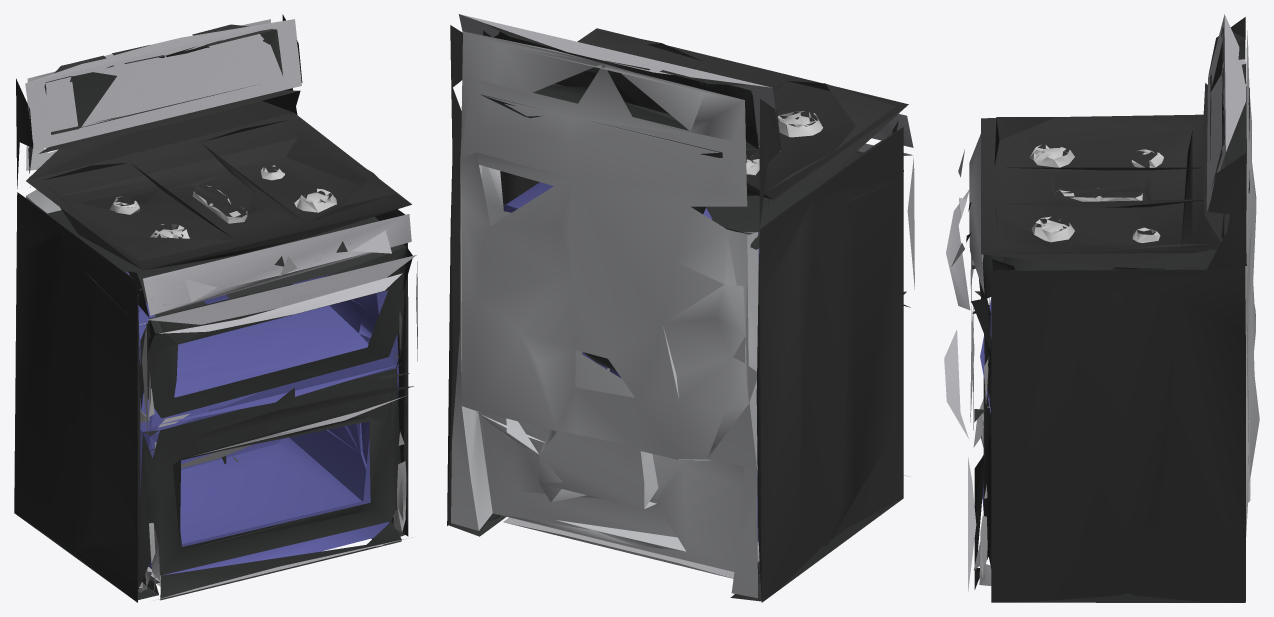
Rendered from simready-range-cooker-lg.lite.910eb93e.glb.
3 renders of one model, left to right at view 1: azimuth 30°, elevation 25°; view 2: azimuth 150°, elevation 25°; view 3: azimuth 270°, elevation 25°, orthographic. The views are drawn at different scales.
Visible parts, largest first — view 1: model; view 2: model; view 3: model.
Boxes of the visible parts, <box> form: model: <box>14,14,417,602</box>; model: <box>447,14,914,602</box>; model: <box>944,14,1259,602</box>.
Bounding box in the file's own units: 0.7606 × 1.18 × 0.7382.
Materials: 21 (9 with a texture image).
